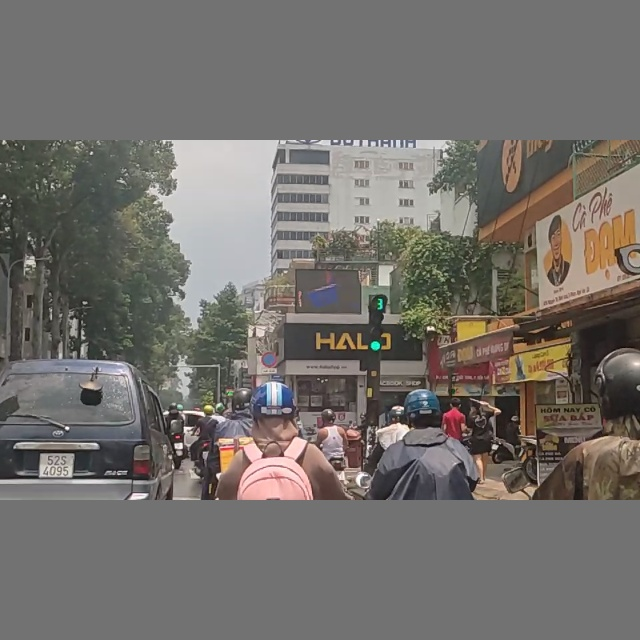P.131a: (262, 351, 277, 367)
